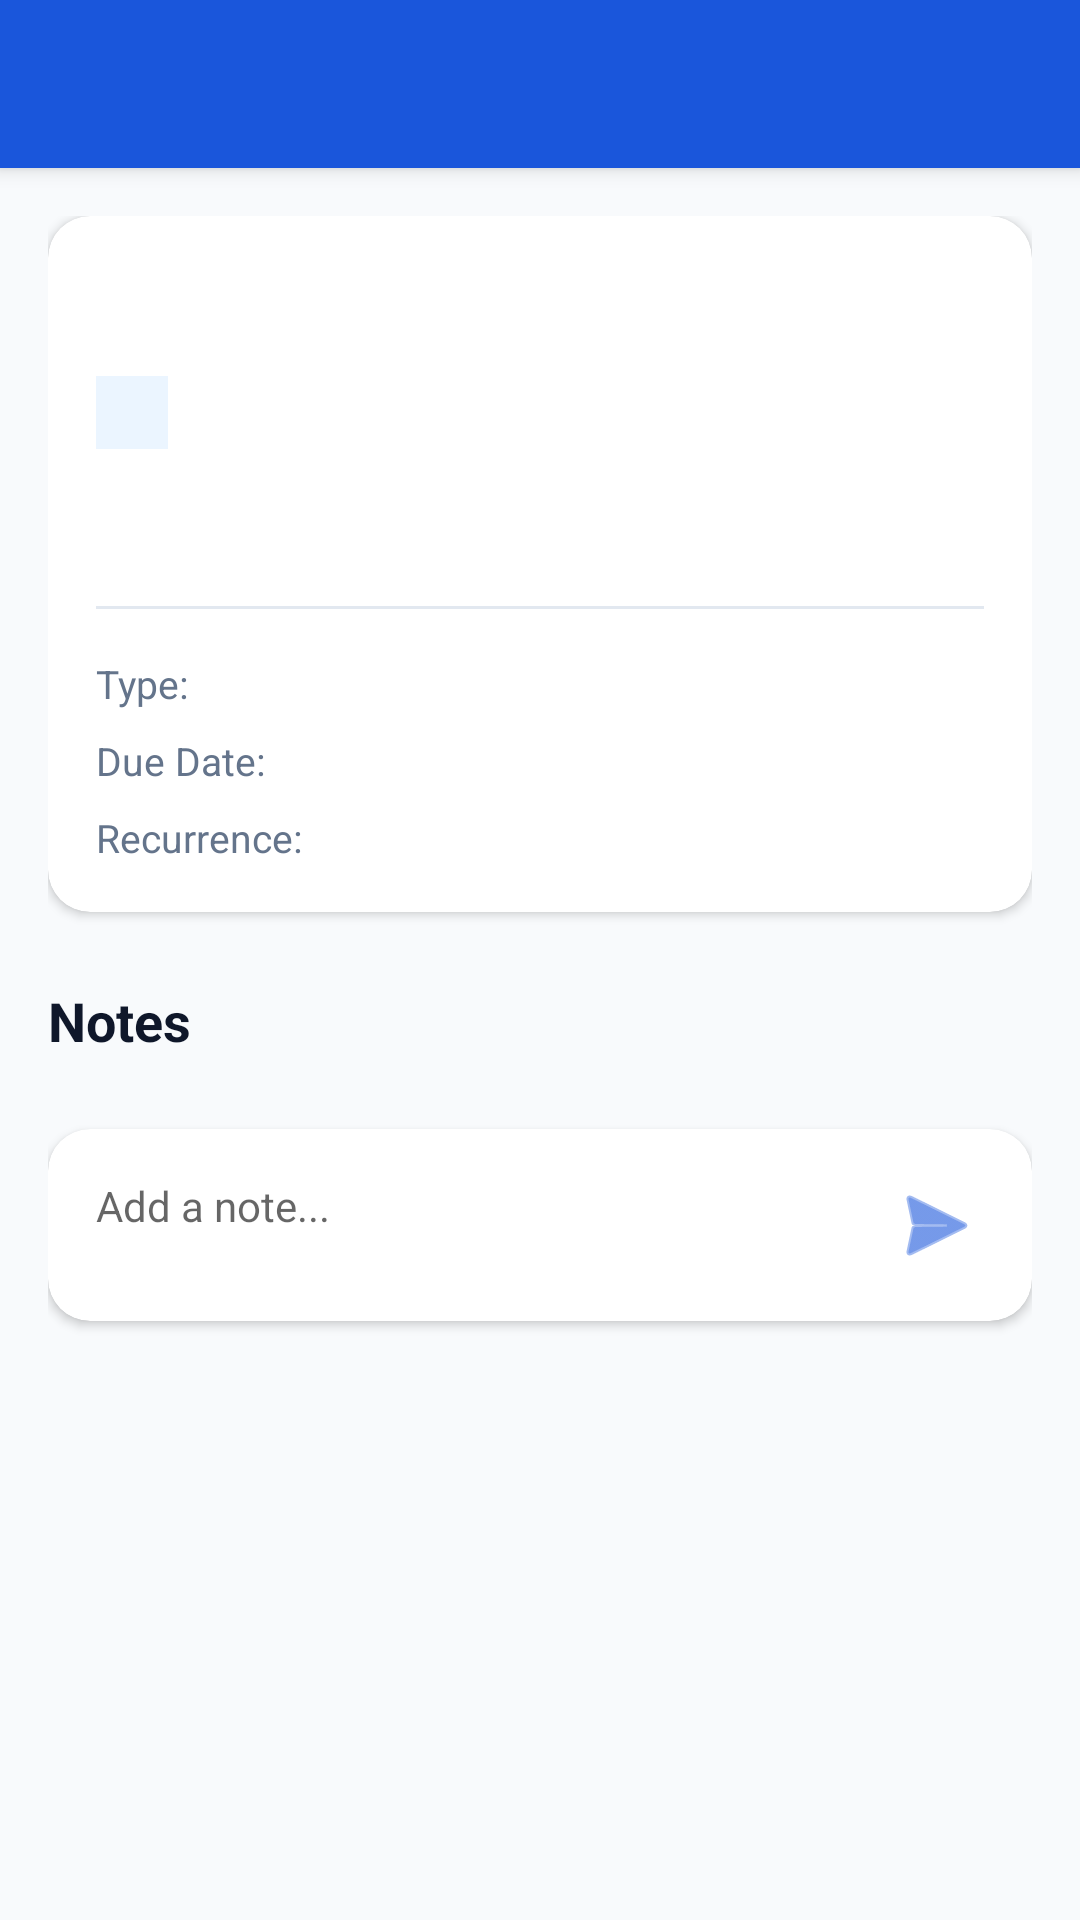

Icons on this 1080×1920 Android screen, each with its box as (x1, y1, x2, y2):
send: (906, 1195, 968, 1256)
